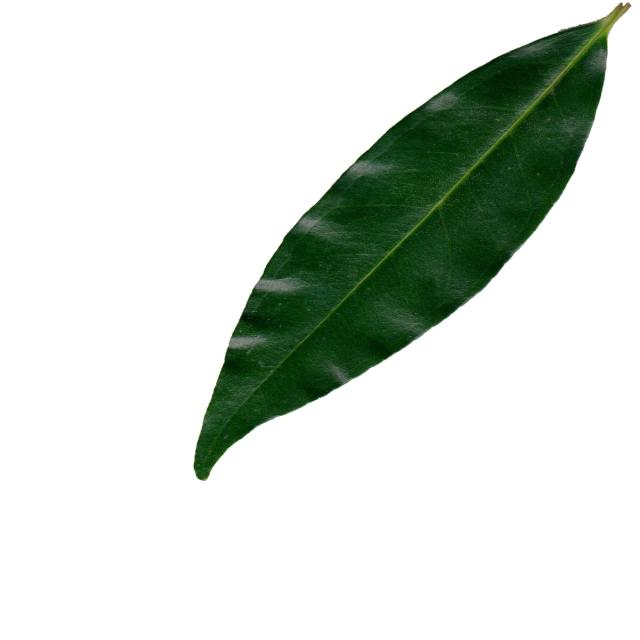Medicinal-Rose Apple: (192, 0, 640, 483)
